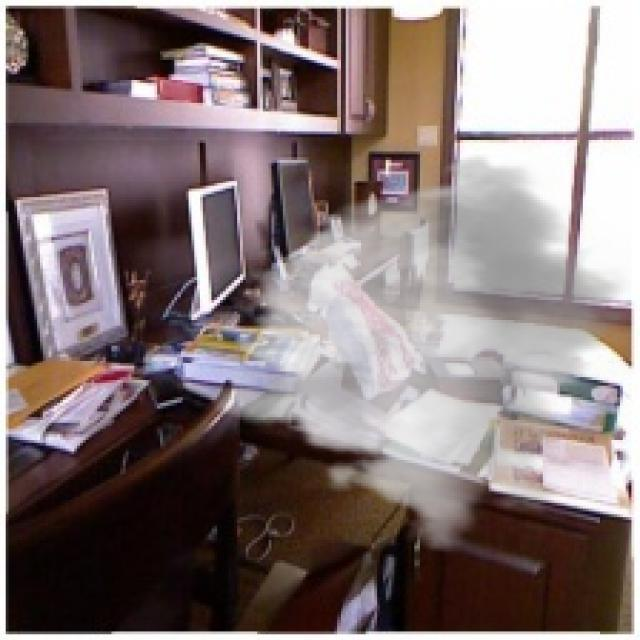Smoke: (206, 155, 632, 554)
